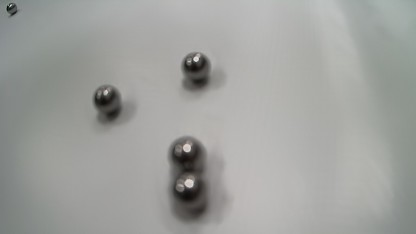ironball: (173, 172, 206, 212), (170, 136, 204, 172), (93, 84, 121, 115), (181, 52, 210, 81), (6, 2, 17, 15)
